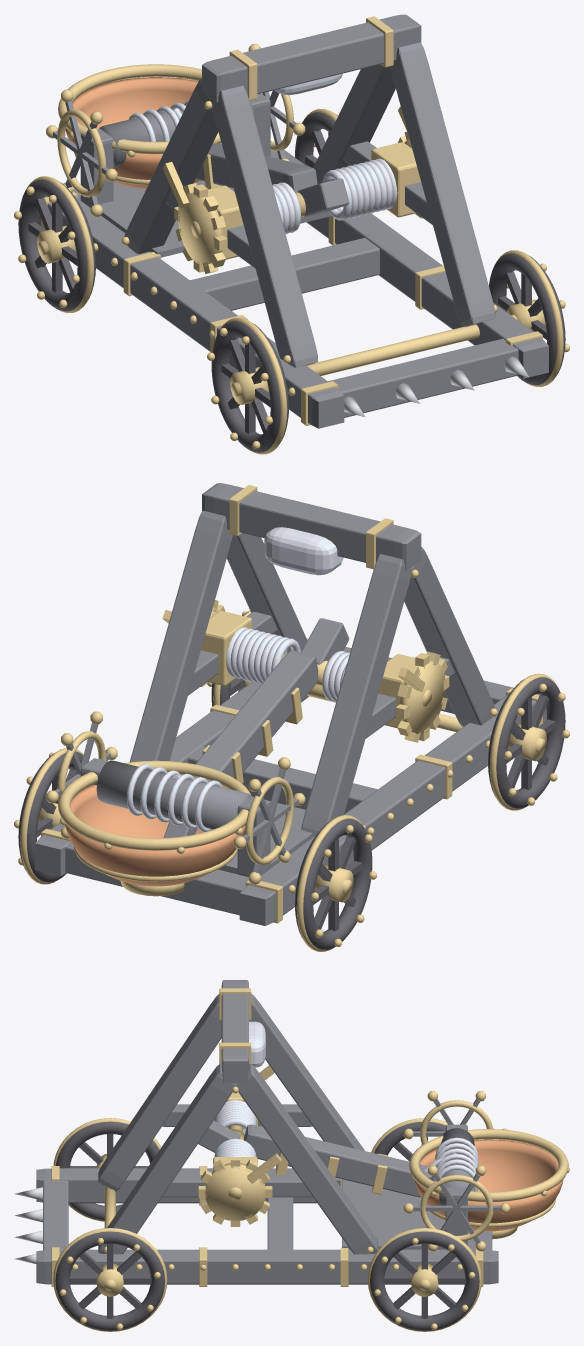
Rendered from dm_catapultiron.glb.
3 renders of one model, top to bottom at view 1: azimuth 30°, elevation 25°; view 2: azimuth 150°, elevation 25°; view 3: azimuth 270°, elevation 25°, orthographic. The views are drawn at different scales.
Visible parts, largest first — view 1: Base_DiamondPlate_FrameFront.001, Base_DiamondPlate_FrameFront, Base_DiamondPlate_Rail, Base_DiamondPlate_StopBar, Base_DiamondPlate_Rail.001, Base_DiamondPlate_CrossBeam, Base_DiamondPlate_FrameBack, Base_DiamondPlate_CrossBeam.001, Arm_Metal_Bucket, Base_DiamondPlate_FrameBack.001, Base_Metal_WheelRim, Base_Metal_WheelRim.001 (+25 smaller); view 2: Base_DiamondPlate_FrameBack, Base_DiamondPlate_FrameBack.001, Base_DiamondPlate_Rail, Base_DiamondPlate_StopBar, Arm_Metal_Bucket, Base_DiamondPlate_FrameFront, Arm_DiamondPlate_ArmBeam, Base_DiamondPlate_WinchDrum, Arm_Metal_BucketRim, Base_DiamondPlate_FrameFront.001, Base_Metal_WheelRim, Base_Metal_WheelRim.001 (+23 smaller); view 3: Base_DiamondPlate_Rail.001, Base_DiamondPlate_FrameBack.001, Base_DiamondPlate_FrameFront, Arm_Metal_Bucket, Base_DiamondPlate_FrameFront.001, Base_DiamondPlate_FrameBack, Base_Metal_WheelRim.003, Base_Metal_WheelRim.002, Arm_DiamondPlate_ArmBeam, Arm_Metal_BucketRim, Base_DiamondPlate_Rail, Base_DiamondPlate_StopBar (+24 smaller).
Part boxes in pixels (left/top/right/bottom): Base_DiamondPlate_FrameFront.001: left=390, top=42, right=495, bottom=326; Base_DiamondPlate_FrameFront: left=210, top=85, right=318, bottom=367; Base_DiamondPlate_Rail: left=37, top=196, right=344, bottom=428; Base_DiamondPlate_StopBar: left=202, top=14, right=421, bottom=102; Base_DiamondPlate_Rail.001: left=270, top=141, right=548, bottom=378; Base_DiamondPlate_CrossBeam: left=328, top=338, right=518, bottom=417; Base_DiamondPlate_FrameBack: left=124, top=78, right=218, bottom=253; Base_DiamondPlate_CrossBeam.001: left=190, top=237, right=379, bottom=310; Arm_Metal_Bucket: left=65, top=77, right=221, bottom=188; Base_DiamondPlate_FrameBack.001: left=313, top=64, right=395, bottom=183; Base_Metal_WheelRim: left=211, top=321, right=288, bottom=452; Base_Metal_WheelRim.001: left=18, top=180, right=95, bottom=311; Base_DiamondPlate_FrameBack: left=301, top=554, right=412, bottom=836; Base_DiamondPlate_FrameBack.001: left=129, top=510, right=232, bottom=762; Base_DiamondPlate_Rail: left=239, top=694, right=546, bottom=925; Base_DiamondPlate_StopBar: left=202, top=483, right=421, bottom=570; Arm_Metal_Bucket: left=65, top=784, right=245, bottom=886; Base_DiamondPlate_FrameFront: left=404, top=547, right=495, bottom=726; Arm_DiamondPlate_ArmBeam: left=193, top=650, right=318, bottom=781; Base_DiamondPlate_WinchDrum: left=96, top=760, right=252, bottom=829; Arm_Metal_BucketRim: left=58, top=760, right=250, bottom=850; Base_DiamondPlate_FrameFront.001: left=226, top=533, right=307, bottom=651; Base_Metal_WheelRim: left=488, top=677, right=565, bottom=808; Base_Metal_WheelRim.001: left=295, top=818, right=372, bottom=949; Base_DiamondPlate_Rail.001: left=36, top=1249, right=498, bottom=1284; Base_DiamondPlate_FrameBack.001: left=235, top=1063, right=378, bottom=1254; Base_DiamondPlate_FrameFront: left=98, top=994, right=221, bottom=1191; Arm_Metal_Bucket: left=415, top=1139, right=563, bottom=1231; Base_DiamondPlate_FrameFront.001: left=98, top=1063, right=235, bottom=1254; Base_DiamondPlate_FrameBack: left=249, top=993, right=364, bottom=1150; Base_Metal_WheelRim.003: left=370, top=1231, right=479, bottom=1330; Base_Metal_WheelRim.002: left=55, top=1231, right=164, bottom=1330; Arm_DiamondPlate_ArmBeam: left=244, top=1124, right=430, bottom=1197; Arm_Metal_BucketRim: left=409, top=1129, right=568, bottom=1202; Base_DiamondPlate_Rail: left=36, top=1168, right=340, bottom=1203; Base_DiamondPlate_StopBar: left=221, top=980, right=248, bottom=1083.
Size of the model in its own units: 9 by 8.93 by 17.32.
